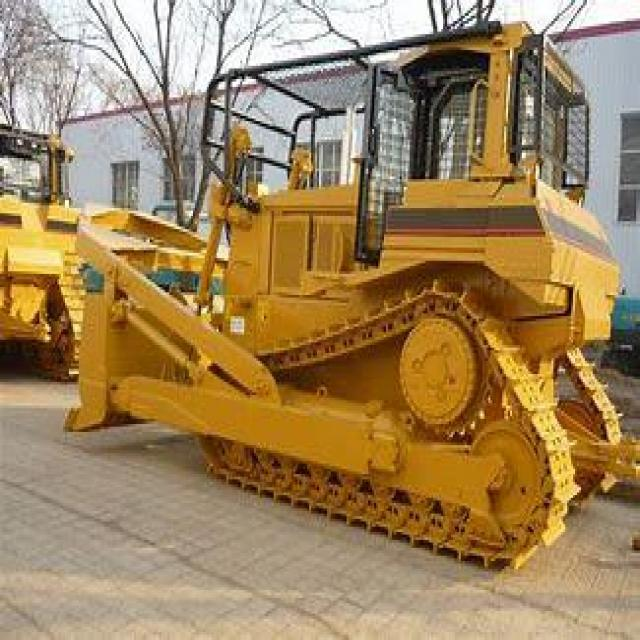Bulldozer: (53, 16, 638, 590)
